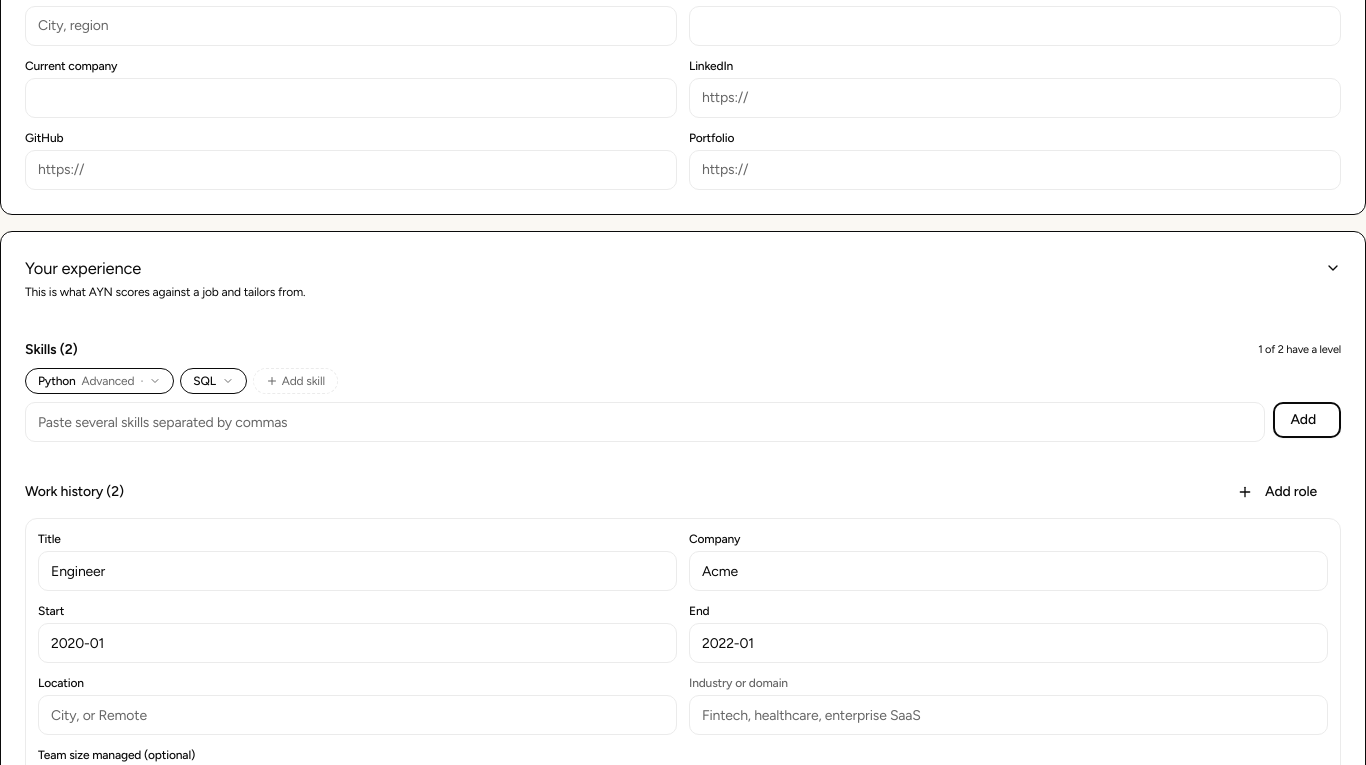
Test: ProfileTab form (real component, mocked backend) › skills: open, edit, add, remove, bulk add
(page scrolled)
Expected: the text "Work history (2)" is shown, [25, 482, 124, 502]
Click the text "Python".
click(57, 382)  # box [38, 374, 76, 390]
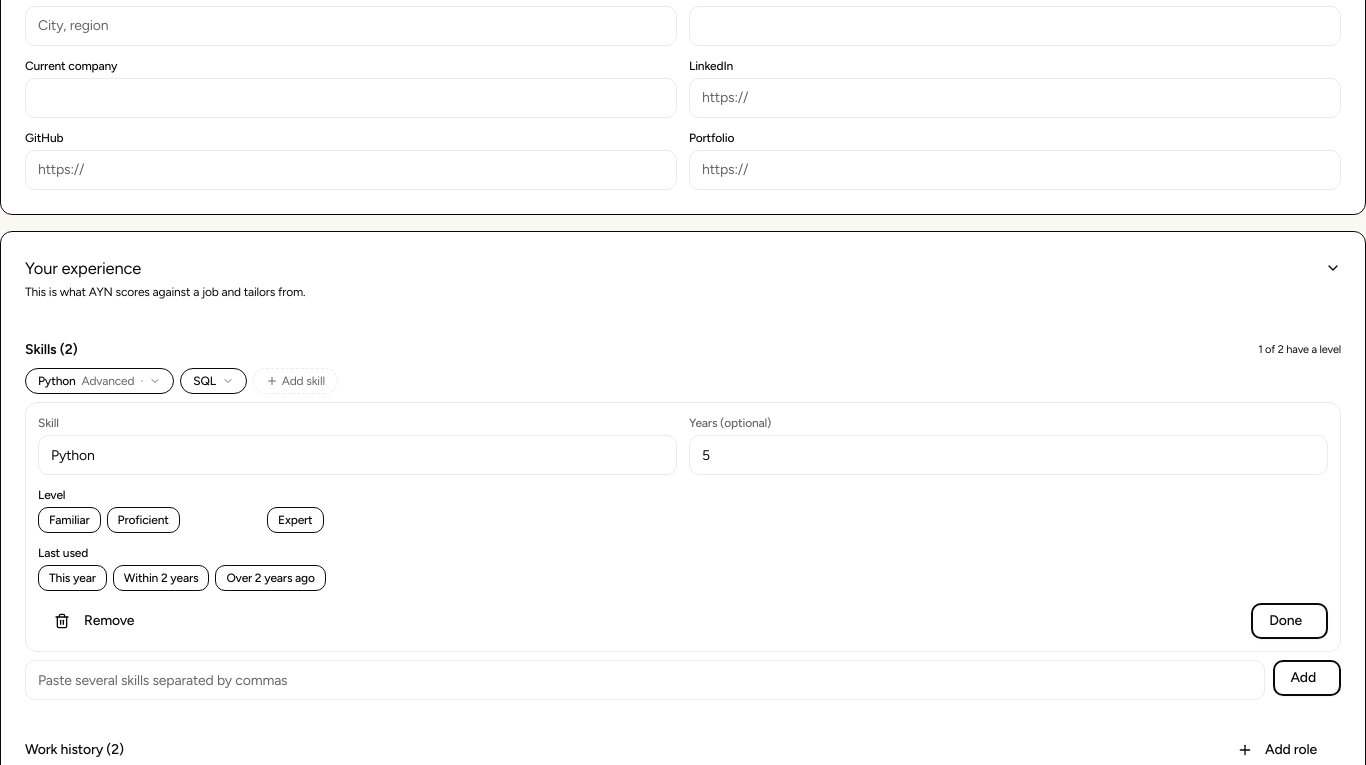
Replace the text in the field showing "Python" below "Years (optional)" with "Python 3" at (358, 456), box [38, 436, 677, 476]
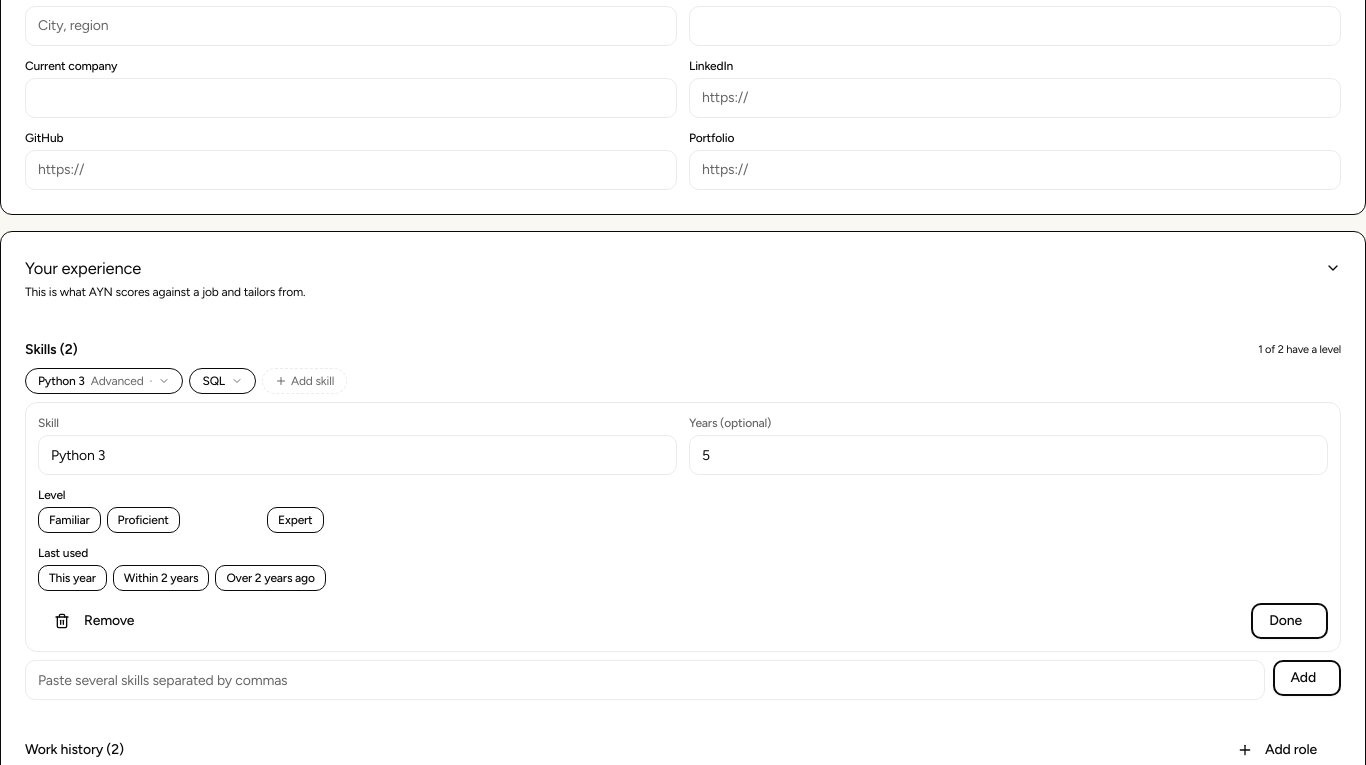
Expected: the text "Python 3" is shown, [38, 374, 85, 390]
Replace the text in the number field showing "5" with "7" at (1008, 456), box [689, 436, 1328, 476]
Click the button "Done".
click(1290, 622)  # box [1251, 604, 1328, 640]
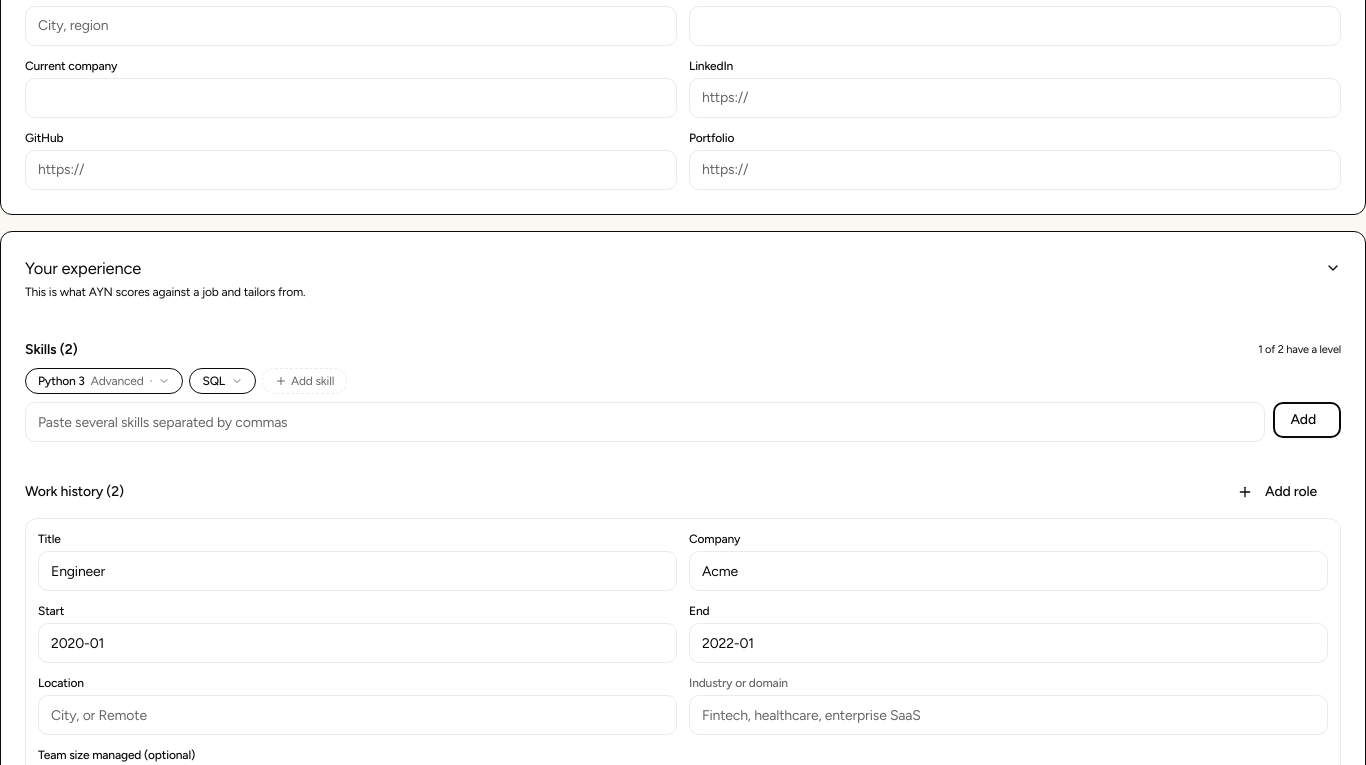
Expected: the text "Years (optional)" is gone
Click the button "Add skill".
click(305, 382)  # box [262, 368, 347, 394]
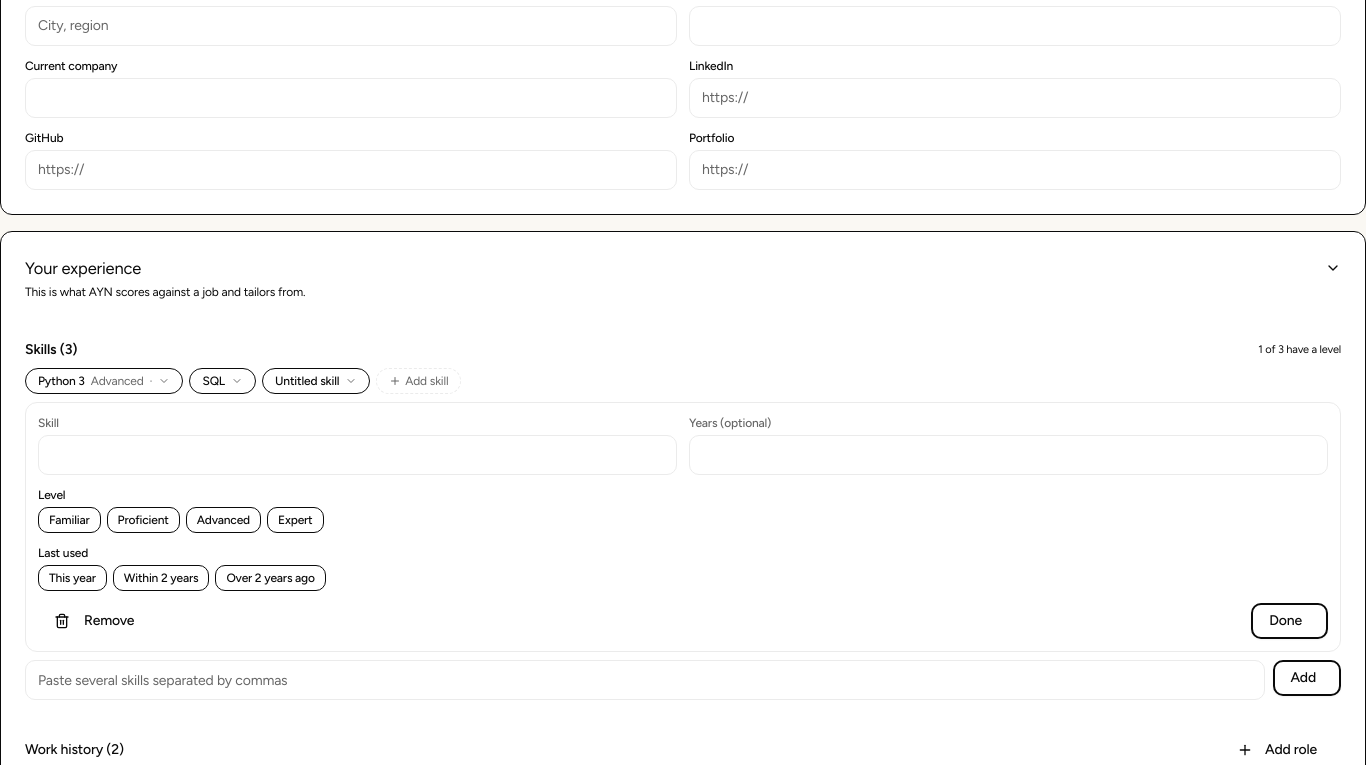
Expected: the text "Skills (3)" is shown, [25, 340, 77, 360]
Expected: the text "Years (optional)" is shown, [689, 416, 771, 430]
Click the button "Remove".
click(98, 622)  # box [38, 604, 158, 640]
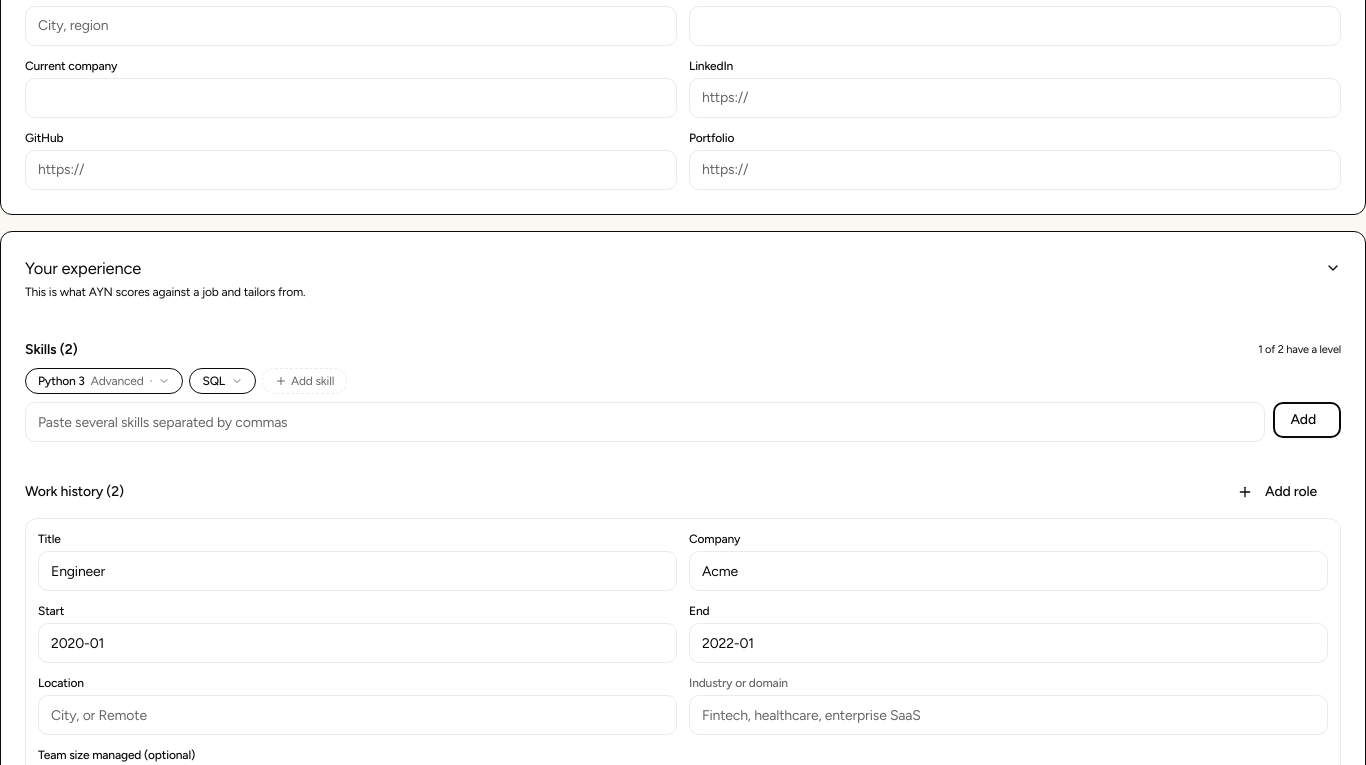
Expected: the text "Skills (2)" is shown, [25, 340, 78, 360]
Type "Go, Rust" into the field with placeholder "Paste several skills separated by commas".
click(645, 422); type("Go, Rust")  # box [25, 402, 1266, 442]
Click the button "Add".
click(1307, 420)  # box [1274, 402, 1341, 438]
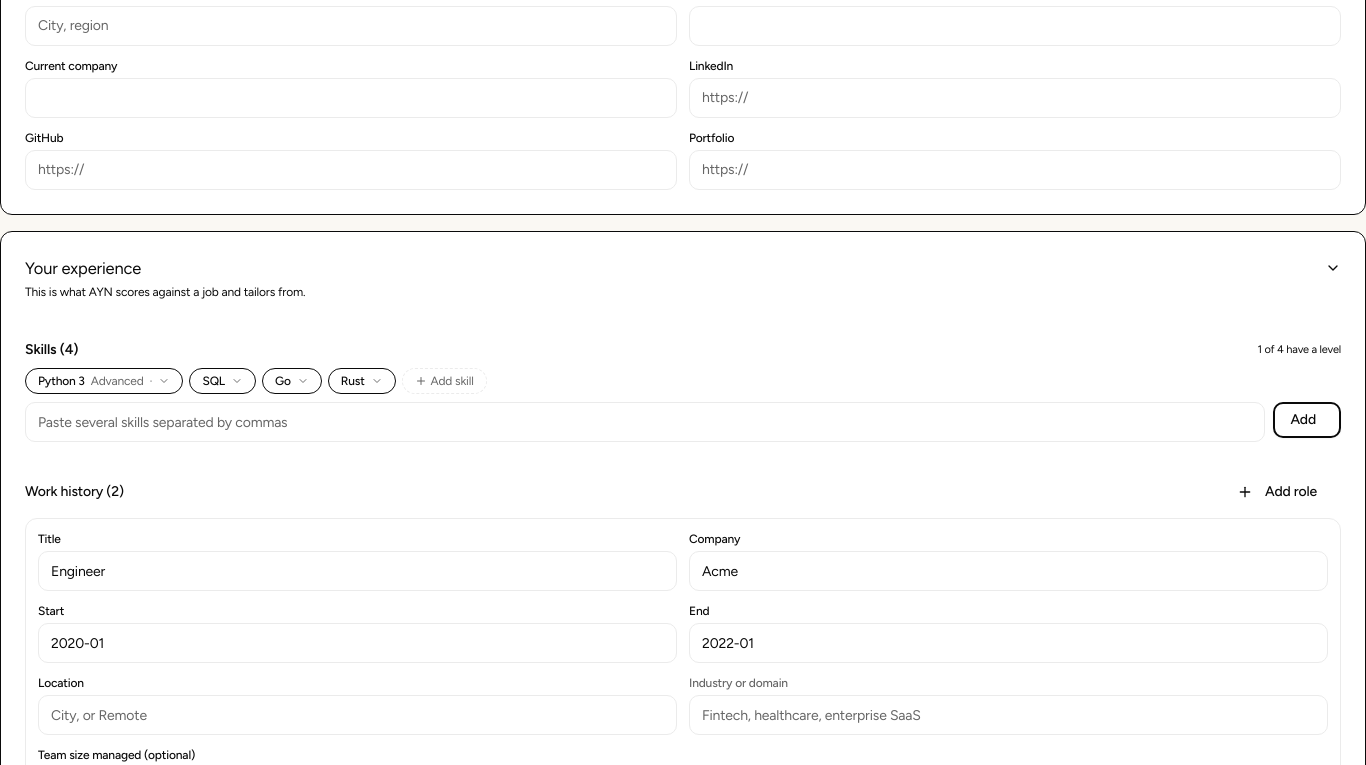
Expected: the text "Skills (4)" is shown, [25, 340, 78, 360]
